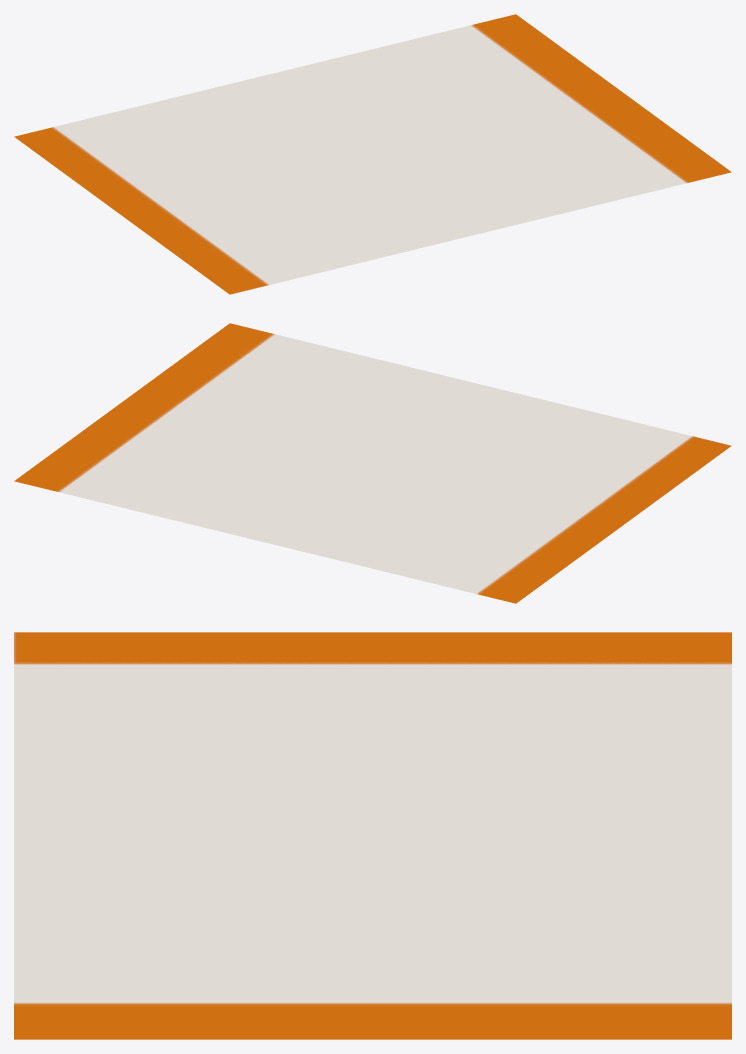
Rendered from Road High Poly.fbx.
3 renders of one model, top to bottom at view 1: azimuth 30°, elevation 25°; view 2: azimuth 150°, elevation 25°; view 3: azimuth 270°, elevation 25°, orthographic. The views are drawn at different scales.
Parts seen in each view (by area): view 1: Pen_Road_Tile; view 2: Pen_Road_Tile; view 3: Pen_Road_Tile.
Boxes of the visible parts, bbox=[...] form: Pen_Road_Tile: bbox=[14, 14, 731, 294]; Pen_Road_Tile: bbox=[14, 323, 731, 603]; Pen_Road_Tile: bbox=[14, 632, 731, 1039].
Bounding box in the file's own units: 10 × 2.02e-16 × 7.45.
